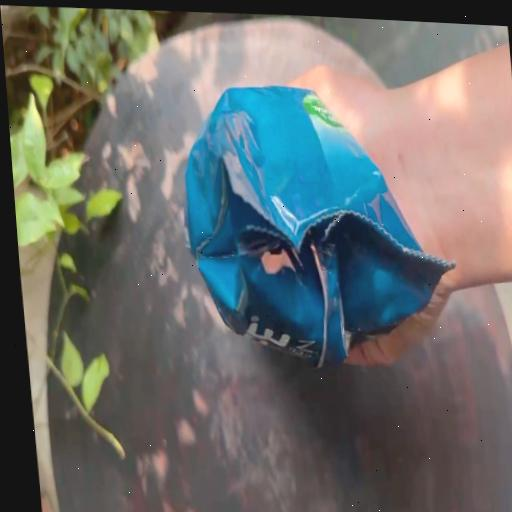cafe_hat: (185, 85, 450, 365)
